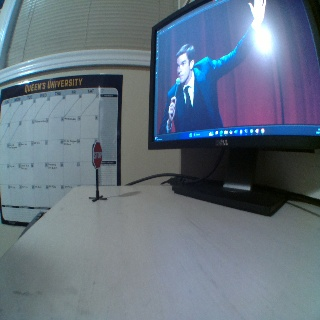sign_stop: (91, 140, 102, 167)
